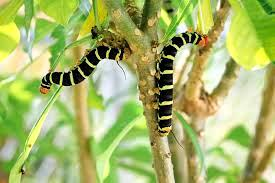Caterpillar: (148, 29, 211, 147), (36, 42, 127, 96)
